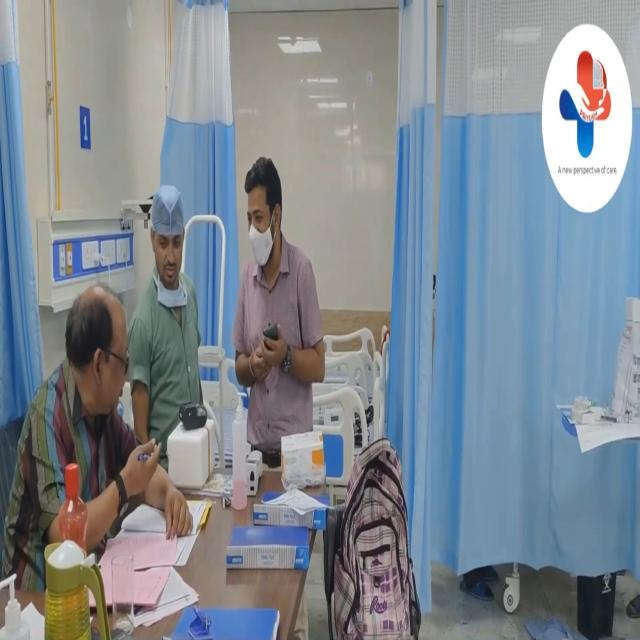Doctor: (225, 140, 328, 432), (28, 272, 152, 509)
Nurse: (130, 165, 208, 404)
